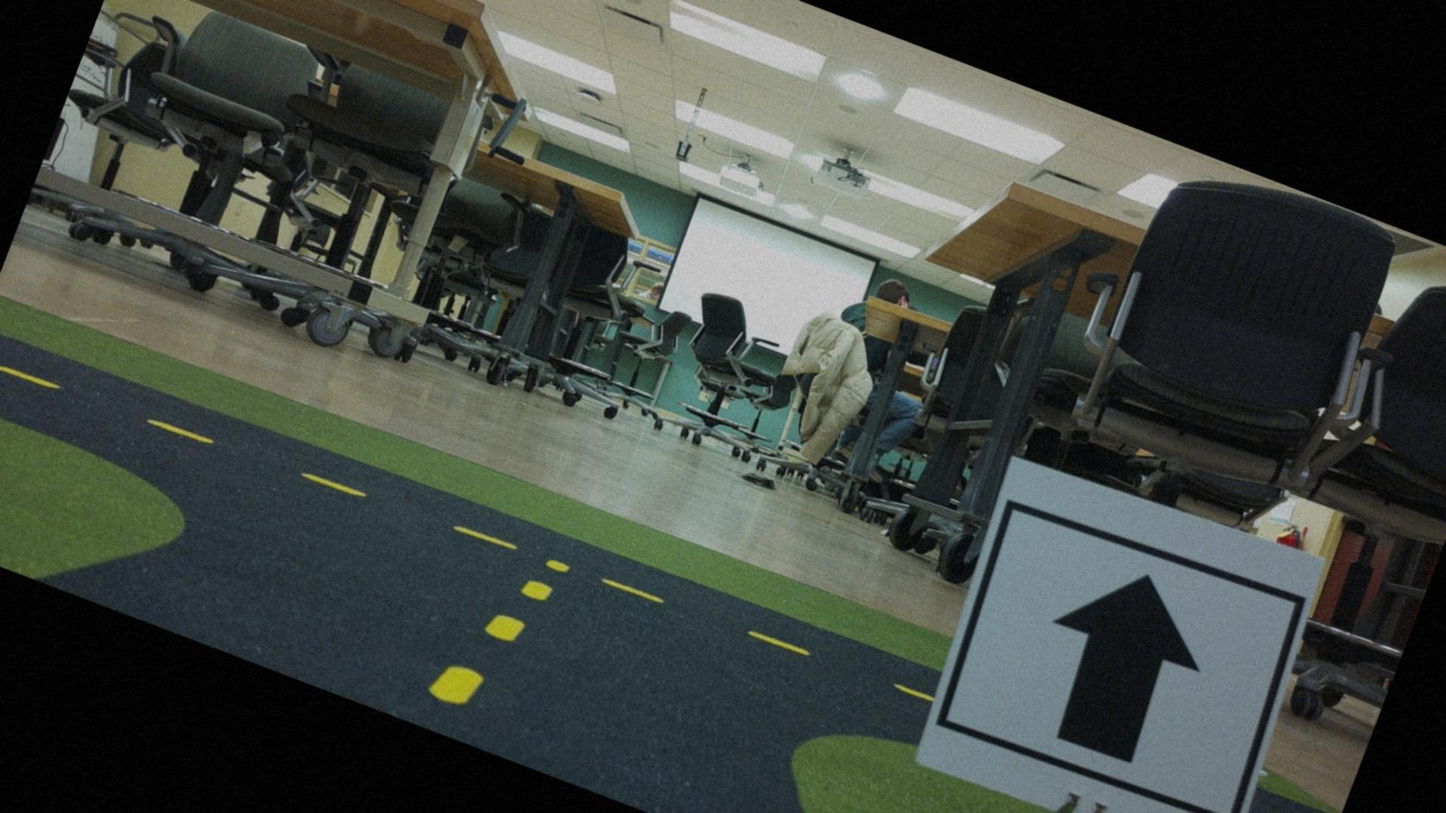gostraight: (911, 461, 1319, 812)
yellowline: (0, 336, 931, 720), (428, 536, 569, 728)
